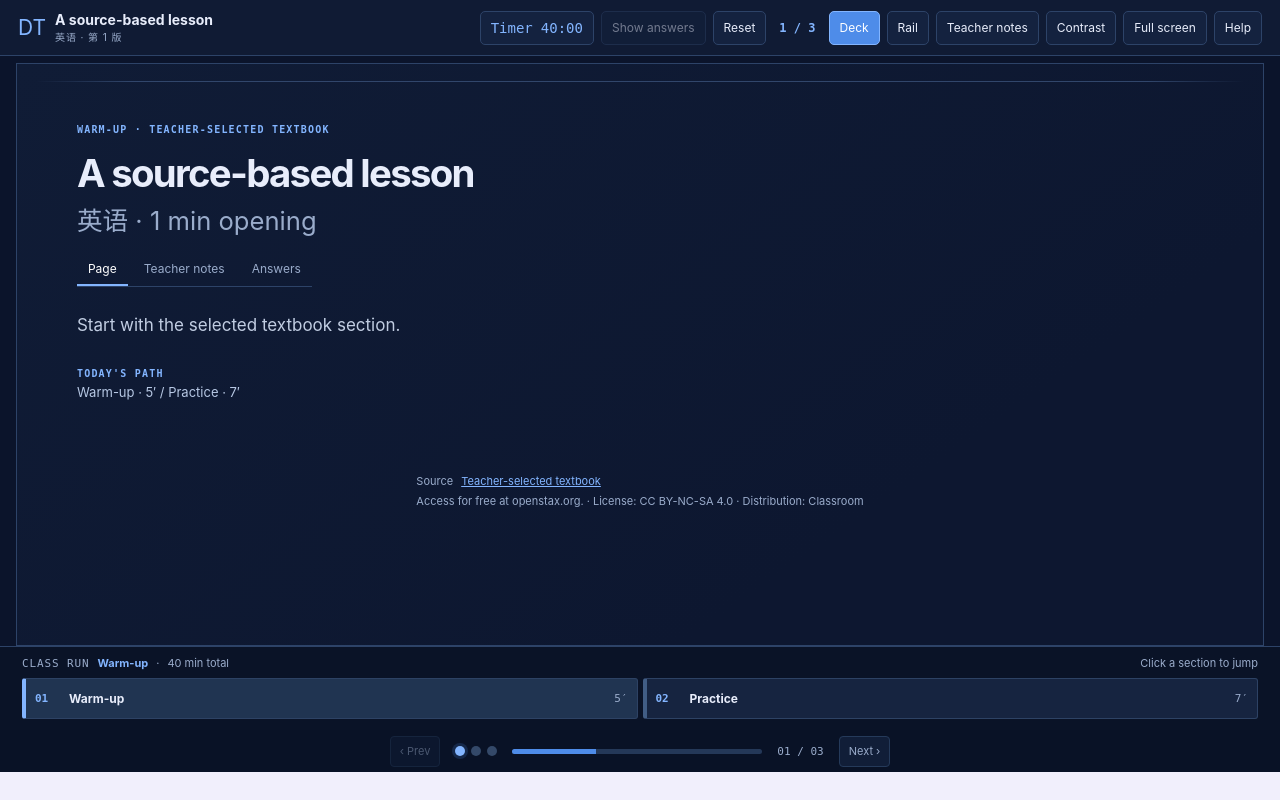
Test: CoursewarePlayer user flows › user_opens_teacher_notes_from_the_cover_without_changing_the_cover_image
The width and height of the screenshot is (1280, 800).
Click the button "Teacher notes" at (987, 28), box [936, 10, 1039, 44]
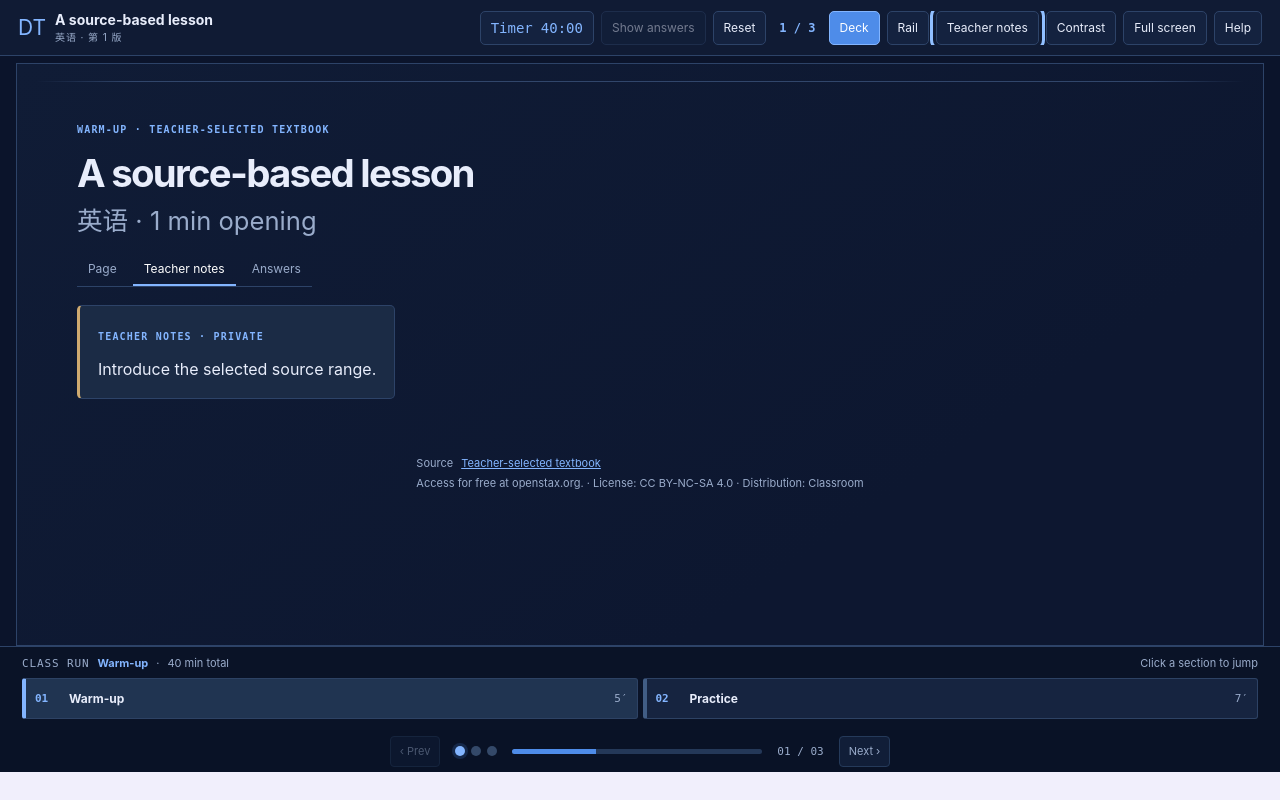
Expected: the heading "A source-based lesson" is shown, [77, 153, 474, 194]
Result: the panel "Teacher notes" shows "Introduce the selected source range." at [98, 359, 376, 379]
